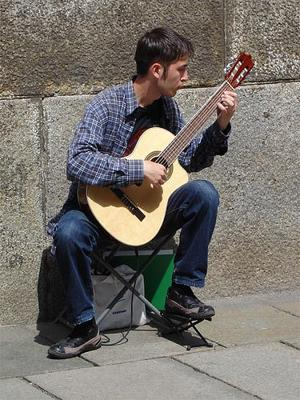person: (46, 29, 237, 362)
